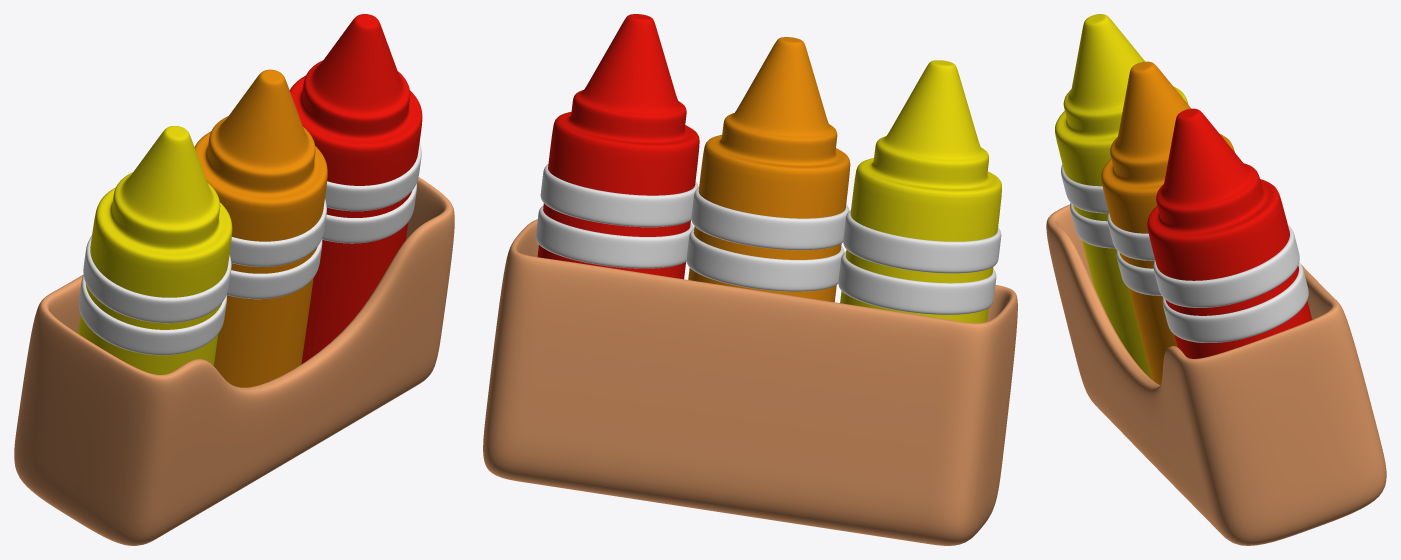
Rendered from Crayon.glb.
3 renders of one model, left to right at view 1: azimuth 30°, elevation 25°; view 2: azimuth 150°, elevation 25°; view 3: azimuth 270°, elevation 25°, orthographic. The views are drawn at different scales.
Visible parts, largest first — view 1: Cube.012, Cylinder.012, Cylinder.009, Cylinder.015, Cylinder.017, Cylinder.014, Cylinder.011; view 2: Cube.012, Cylinder.009, Cylinder.012, Cylinder.015, Cylinder.017, Cylinder.014, Cylinder.011; view 3: Cube.012, Cylinder.009, Cylinder.015, Cylinder.012, Cylinder.011, Cylinder.017, Cylinder.014.
Boxes of the visible parts, x1=… form: Cube.012: x1=14, y1=177, x2=454, y2=545; Cylinder.012: x1=194, y1=69, x2=327, y2=387; Cylinder.009: x1=289, y1=14, x2=422, y2=364; Cylinder.015: x1=78, y1=126, x2=232, y2=374; Cylinder.017: x1=79, y1=235, x2=231, y2=355; Cylinder.014: x1=227, y1=199, x2=326, y2=299; Cylinder.011: x1=322, y1=143, x2=421, y2=243; Cube.012: x1=483, y1=219, x2=1017, y2=545; Cylinder.009: x1=537, y1=14, x2=699, y2=279; Cylinder.012: x1=688, y1=37, x2=850, y2=302; Cylinder.015: x1=840, y1=60, x2=1001, y2=323; Cylinder.017: x1=838, y1=210, x2=1001, y2=314; Cylinder.014: x1=686, y1=187, x2=849, y2=291; Cylinder.011: x1=536, y1=164, x2=698, y2=268; Cube.012: x1=1046, y1=204, x2=1386, y2=545; Cylinder.009: x1=1147, y1=108, x2=1312, y2=358; Cylinder.015: x1=1055, y1=14, x2=1188, y2=379; Cylinder.012: x1=1101, y1=61, x2=1234, y2=384; Cylinder.011: x1=1153, y1=225, x2=1308, y2=342; Cylinder.017: x1=1061, y1=164, x2=1114, y2=248; Cylinder.014: x1=1107, y1=212, x2=1161, y2=295.
Bounding box in the file's own units: 5.71 × 5.55 × 4.02.
